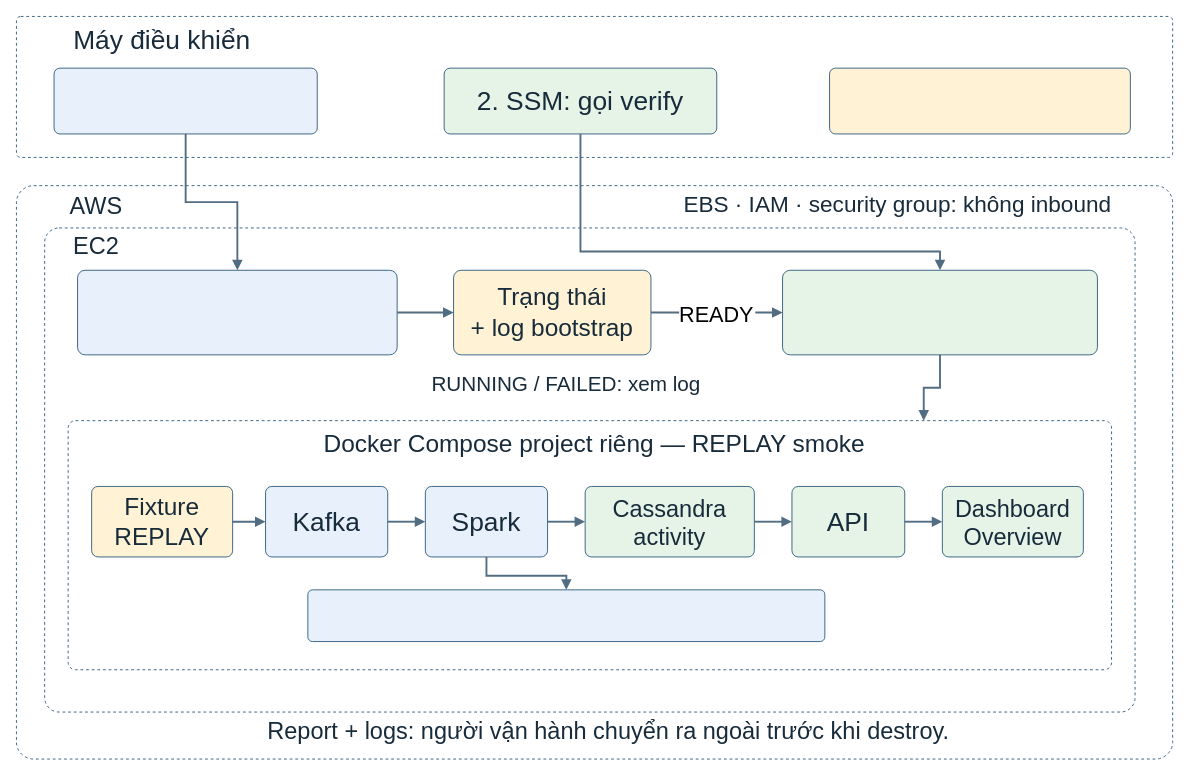
The diagram is 1189 pixels wide and 776 high, and some of its shapes have lost their labels. The shapes that lost their labels are listed below. From the top down, each one's centre as x and y in pixels, then its label:
pixel 185 100: 1. Terraform apply + SHA nguồn
pixel 979 100: 3. Lưu evidence → destroy + đối chiếu
pixel 237 312: User data: timer 3 giờ + cài đặt, clone SHA
pixel 939 312: wikipulse-verify kiểm READY, SHA, checkout
pixel 566 615: Parquet: Bronze / Silver / Gold + analytics
